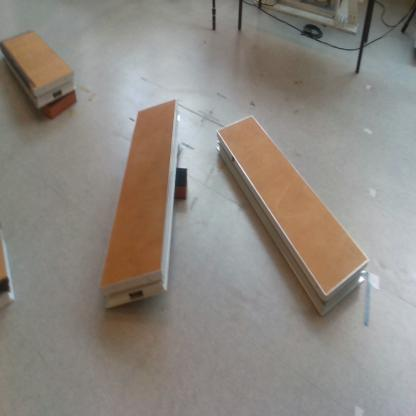Stairs: (217, 117, 371, 316), (103, 102, 181, 311), (1, 29, 76, 111), (2, 233, 12, 296)
